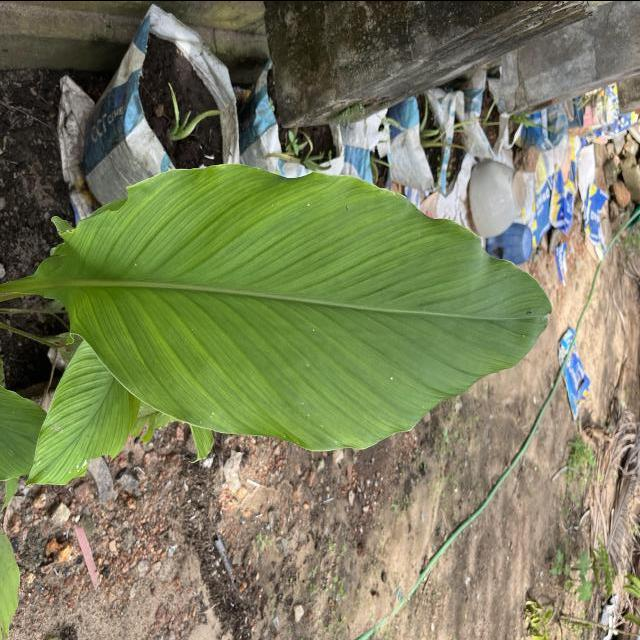Curcuma longa: (26, 160, 554, 452)
